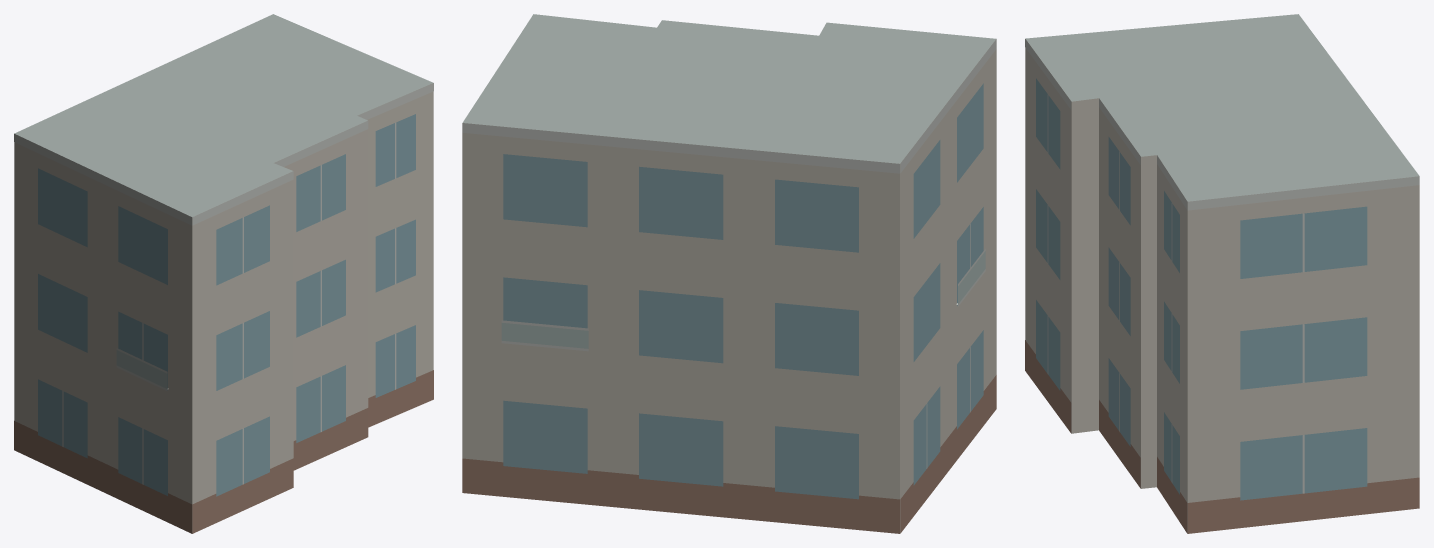
Rendered from survey-upis-32781378.glb.
The picture shows the model from 3 angles, left to right: view 1: azimuth 30°, elevation 25°; view 2: azimuth 150°, elevation 25°; view 3: azimuth 270°, elevation 25°; orthographic projection. The views are drawn at different scales.
Visible parts, largest first — view 1: survey-upis-32781378.tmp; view 2: survey-upis-32781378.tmp; view 3: survey-upis-32781378.tmp.
Part boxes in pixels (x1=…): survey-upis-32781378.tmp: x1=14, y1=14, x2=433, y2=533; survey-upis-32781378.tmp: x1=462, y1=14, x2=996, y2=533; survey-upis-32781378.tmp: x1=1025, y1=14, x2=1419, y2=533.
Size of the model in its own units: 11.1 by 9.15 by 9.86.
